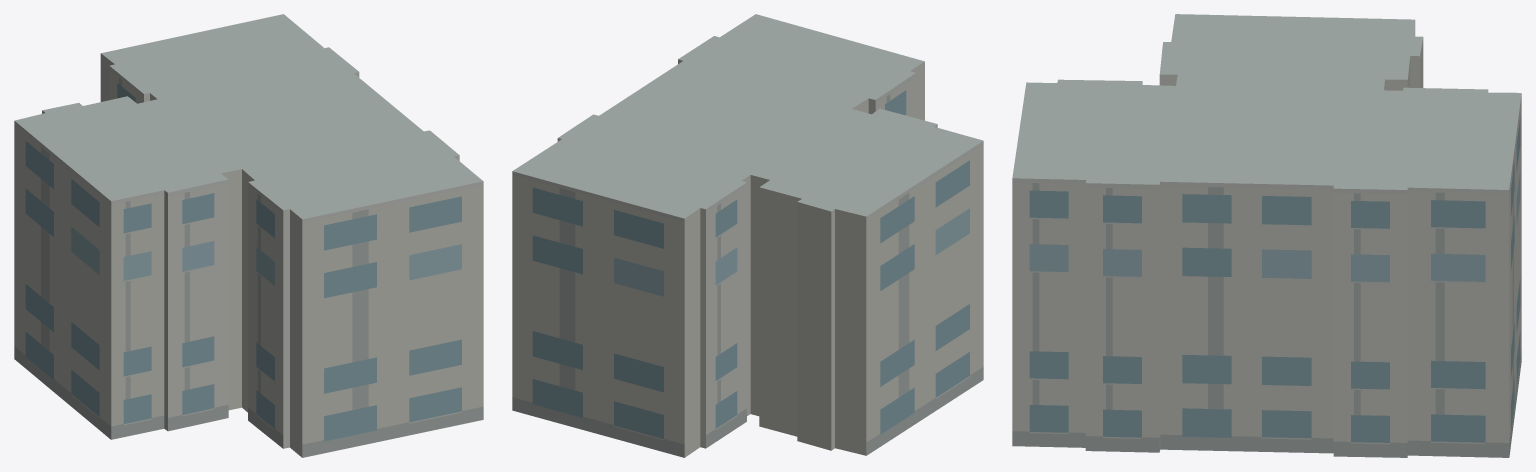
File: survey-upis-32898882.glb
3 renders of one model, left to right at view 1: azimuth 30°, elevation 25°; view 2: azimuth 150°, elevation 25°; view 3: azimuth 270°, elevation 25°, orthographic. The views are drawn at different scales.
Parts seen in each view (by area): view 1: survey-upis-32898882.tmp; view 2: survey-upis-32898882.tmp; view 3: survey-upis-32898882.tmp.
Boxes of the visible parts, x1,y1,x2,y2 form: survey-upis-32898882.tmp: [14, 14, 483, 457]; survey-upis-32898882.tmp: [512, 14, 983, 457]; survey-upis-32898882.tmp: [1012, 14, 1521, 457].
Bounding box in the file's own units: 21.51 × 15.25 × 26.29.
